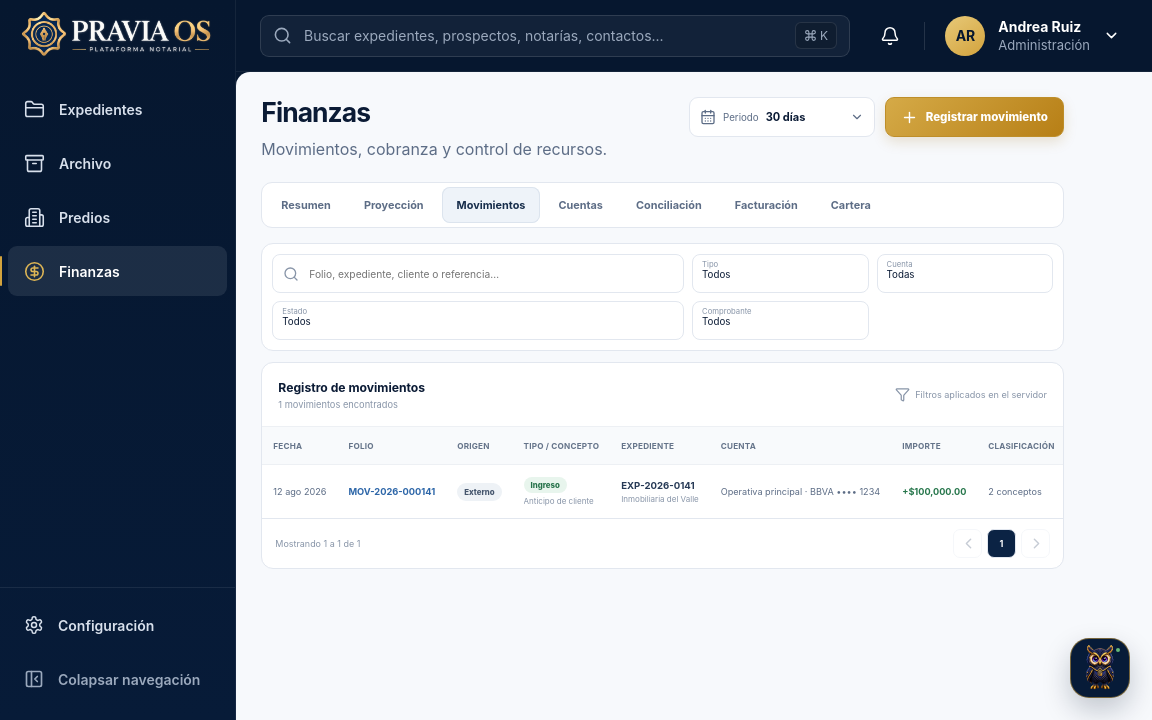
Finanzas › lista movimientos, usa filtros reales y abre el comprobante desde el movimiento
Check: the table is shown, box [262,427,1063,518]
Type "0141" into the field named "Buscar movimientos" at x=490, y=274, box [307,267,673,281]
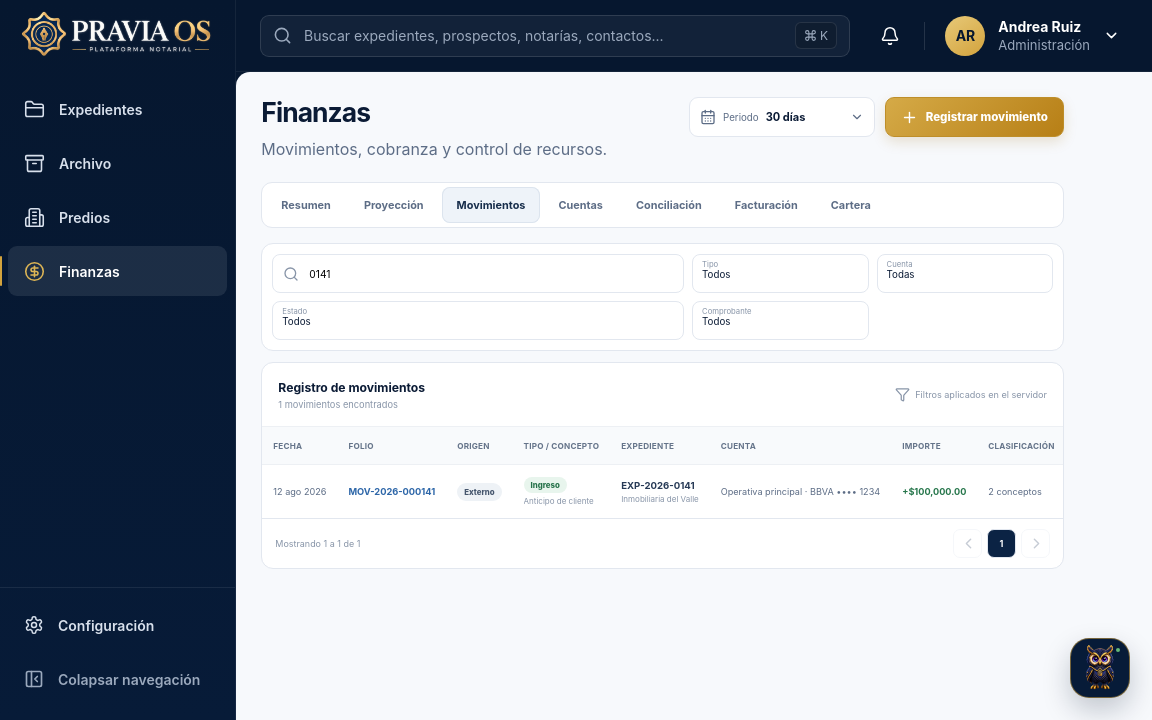
Click the button "MOV-2026-000141" at x=392, y=492, box [348,486,435,497]
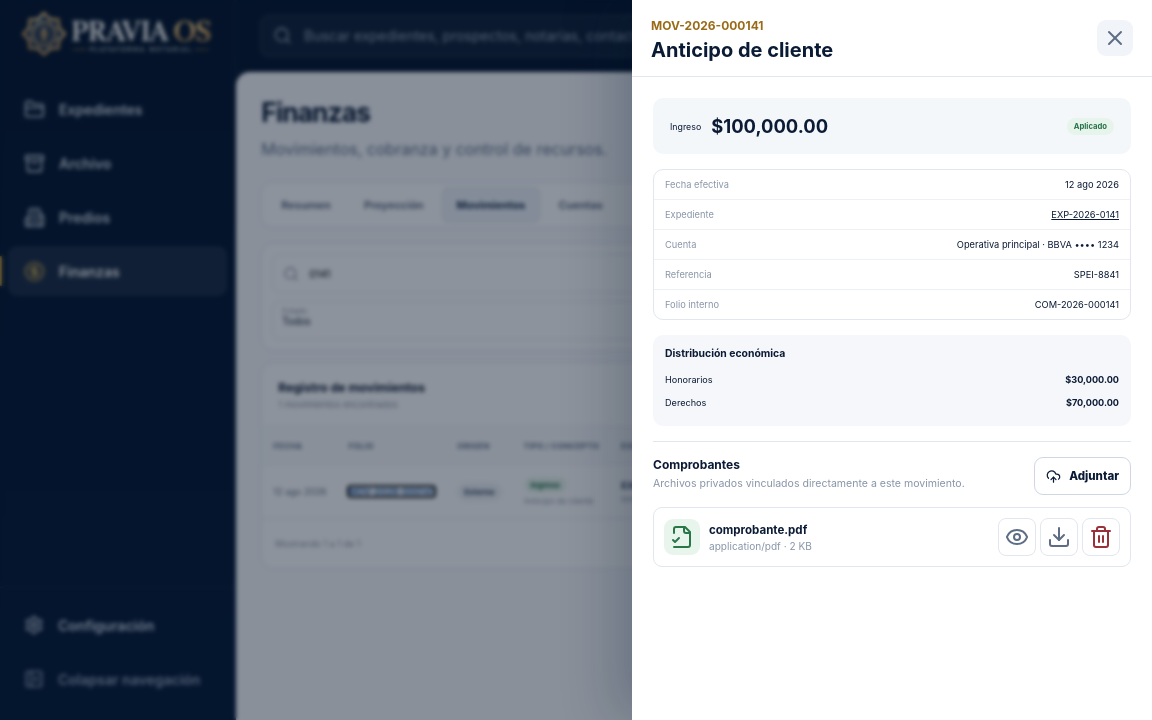
Check: the dialog "Anticipo de cliente" is shown, box [632,0,1151,719]
Check: the heading "Distribución económica" is shown, box [665,347,785,360]
Click the button named "Visualizar comprobante.pdf" at x=1017, y=537, box [998,518,1036,556]
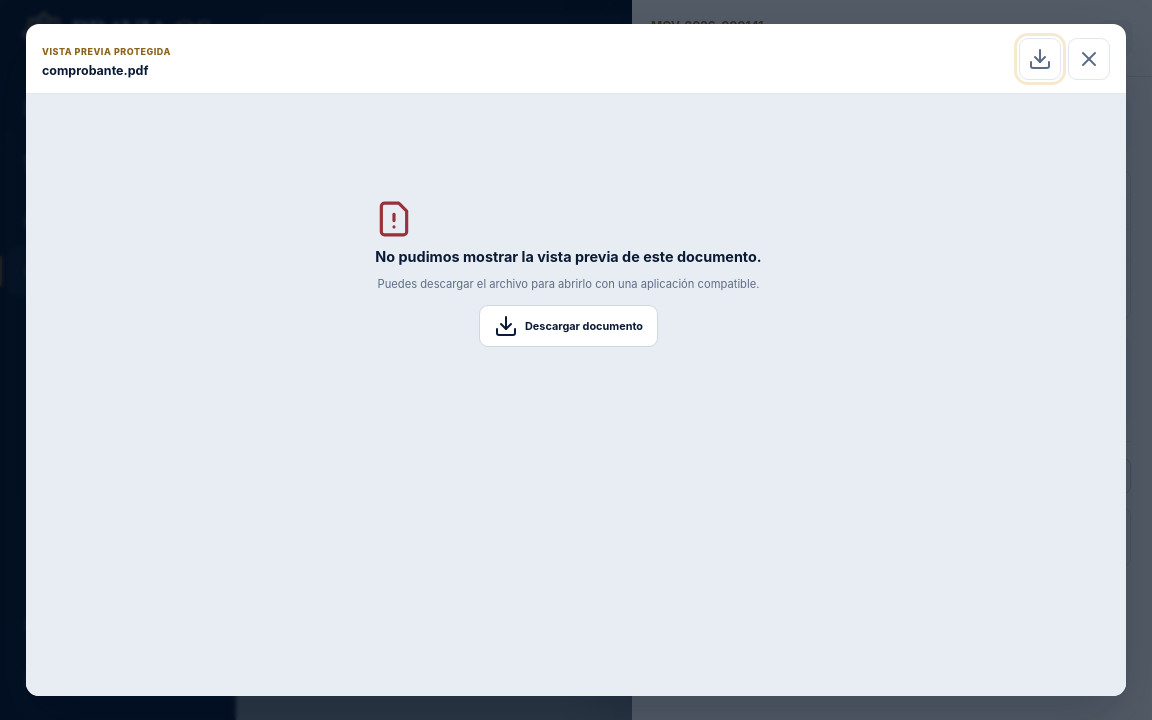
Check: the dialog "comprobante.pdf" is shown
